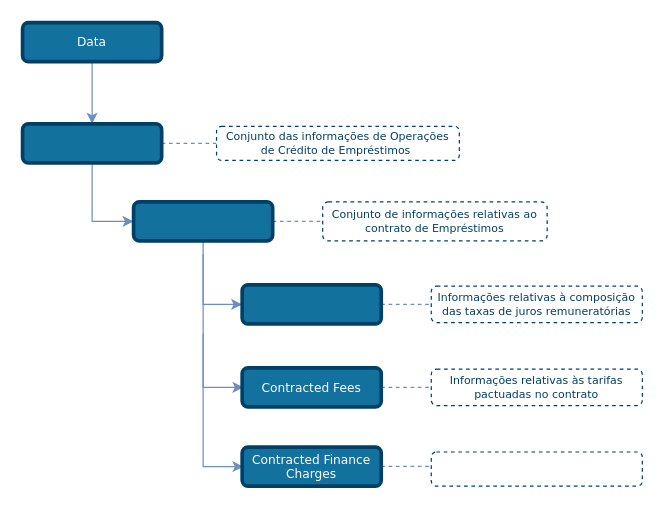
The diagram is 664 pixels wide and 509 high, and some of its shapes have lost their labels. Each missing label, with the centre of its shape:
"Agreement" goes at (202,220).
"Informações relativas aos encargos pactuados no contrato" goes at (536,468).
"Interest Rates" goes at (311,303).
"Loans" goes at (91,142).
